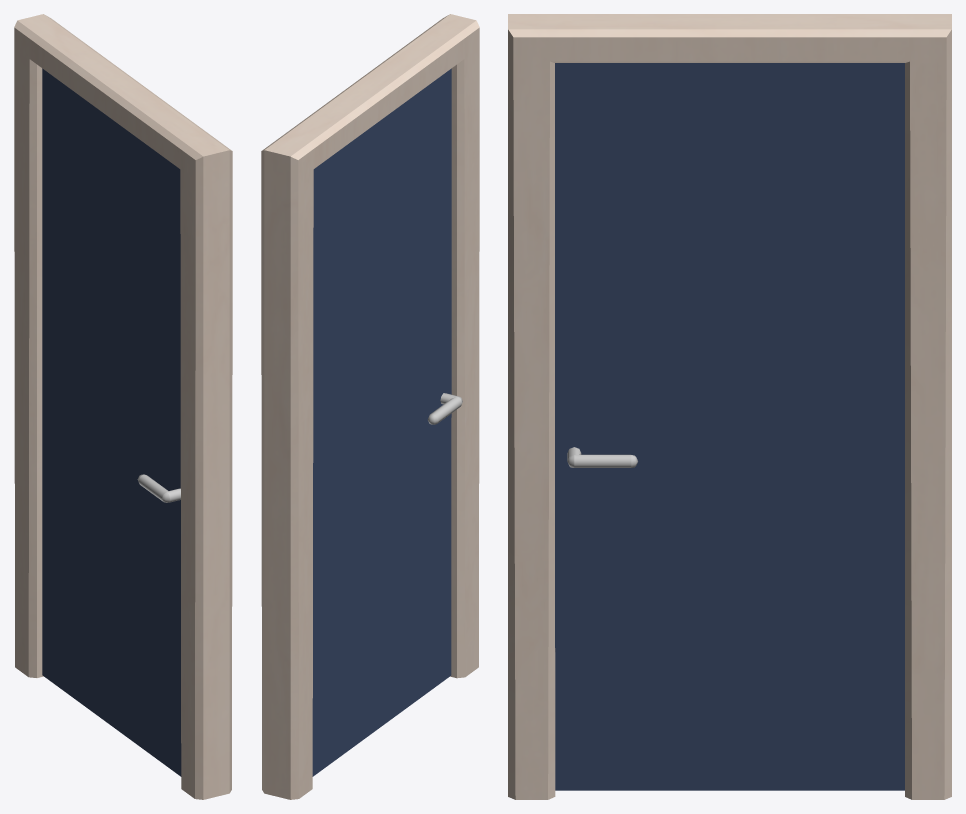
Rendered from ECR_Door.fbx.
The picture shows the model from 3 angles, left to right: view 1: azimuth 30°, elevation 25°; view 2: azimuth 150°, elevation 25°; view 3: azimuth 270°, elevation 25°; orthographic projection. The views are drawn at different scales.
Parts seen in each view (by area): view 1: door, residentRoomDoorframe, doorKnob; view 2: door, residentRoomDoorframe, doorKnob; view 3: door, residentRoomDoorframe, doorKnob.
Part boxes in pixels (<box>): door: <box>42,68,181,776</box>; residentRoomDoorframe: <box>14,14,232,799</box>; doorKnob: <box>137,474,180,502</box>; door: <box>312,68,451,776</box>; residentRoomDoorframe: <box>261,14,479,799</box>; doorKnob: <box>428,393,462,424</box>; door: <box>555,63,904,790</box>; residentRoomDoorframe: <box>508,14,951,799</box>; doorKnob: <box>567,447,637,467</box>.
Size of the model in its own units: 18.97 by 226 by 119.
